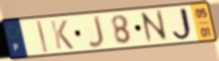8: (110, 14, 133, 46)
I: (35, 19, 49, 54)
J: (170, 6, 196, 42), (87, 14, 107, 49)
K: (49, 19, 76, 51)
N: (138, 8, 171, 46)
